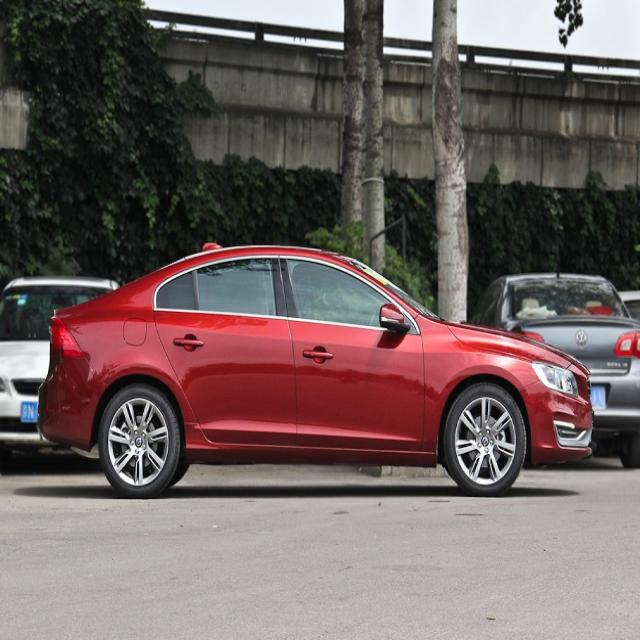back_right_side_light: (48, 312, 82, 359)
door: (152, 250, 292, 443)
front_bumper: (519, 379, 595, 463)
front_right_side_door: (278, 254, 427, 461)
front_right_side_light: (530, 358, 580, 398)
front_right_side_mirror: (378, 303, 409, 333)
rear_bumper: (37, 347, 108, 452)
wheel: (99, 382, 180, 500), (444, 383, 524, 496)
